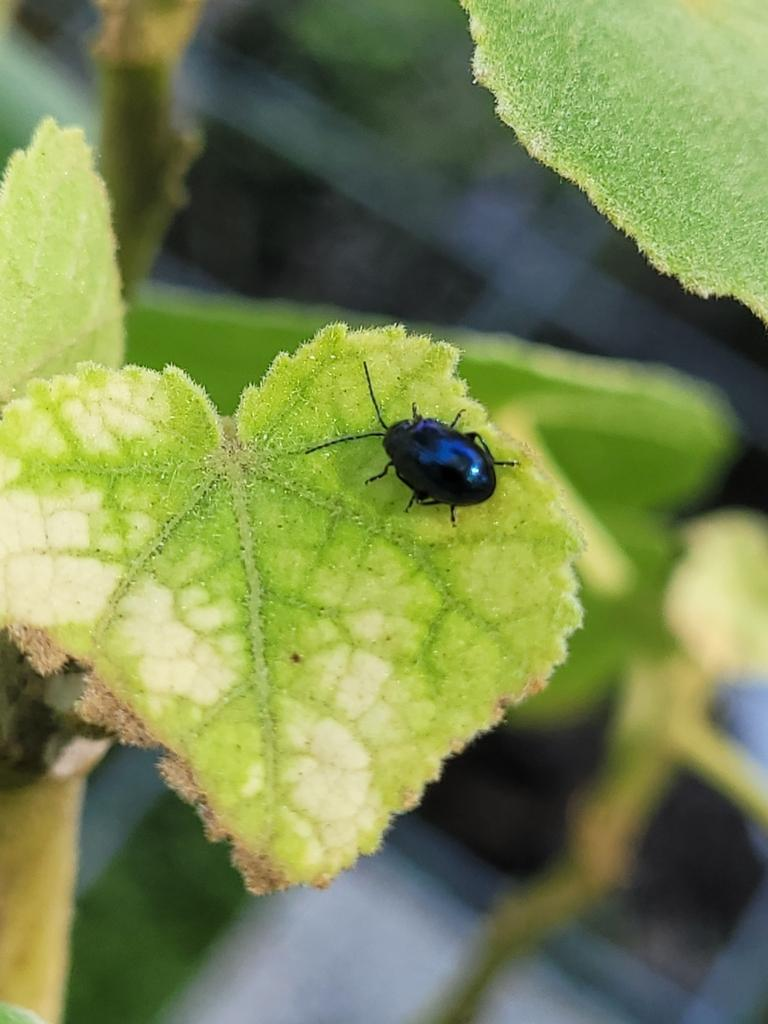flea_beetle: (272, 309, 561, 578)
